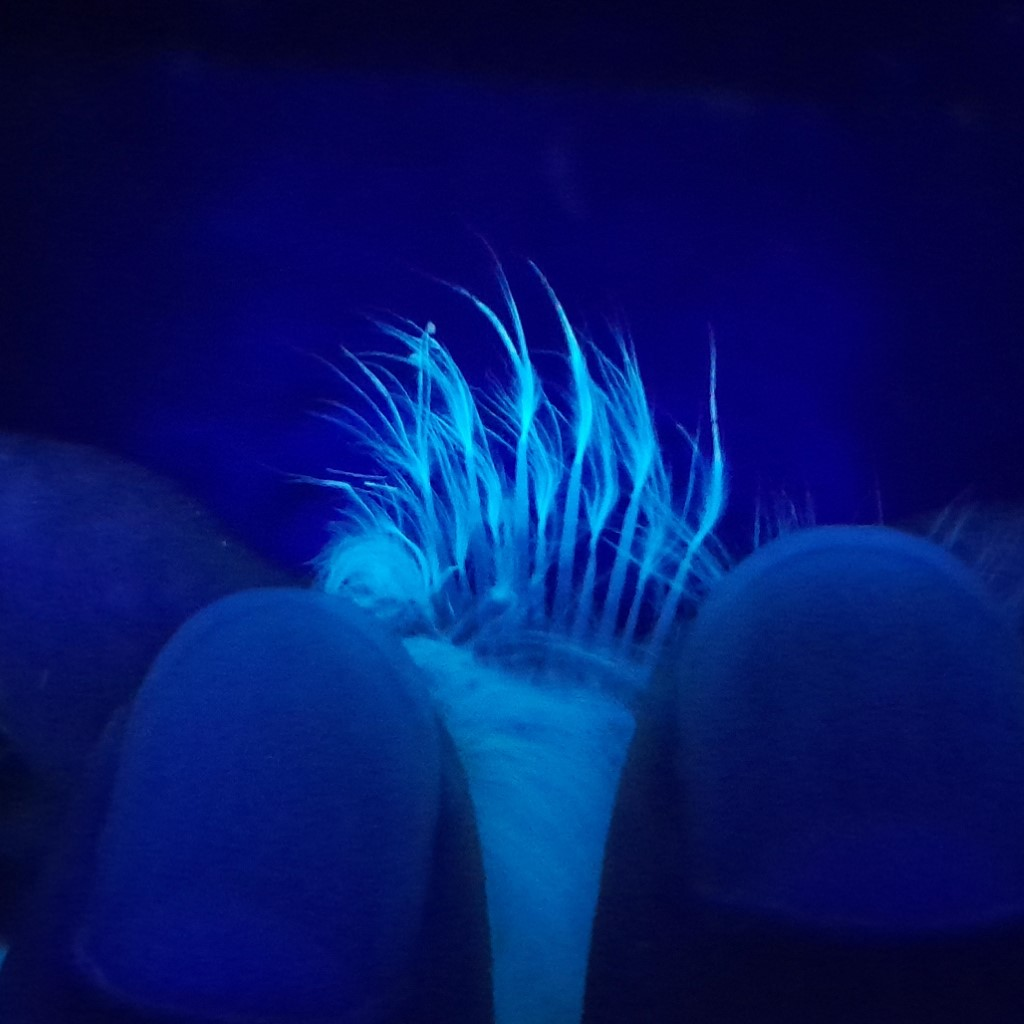male: (412, 407, 705, 712)
